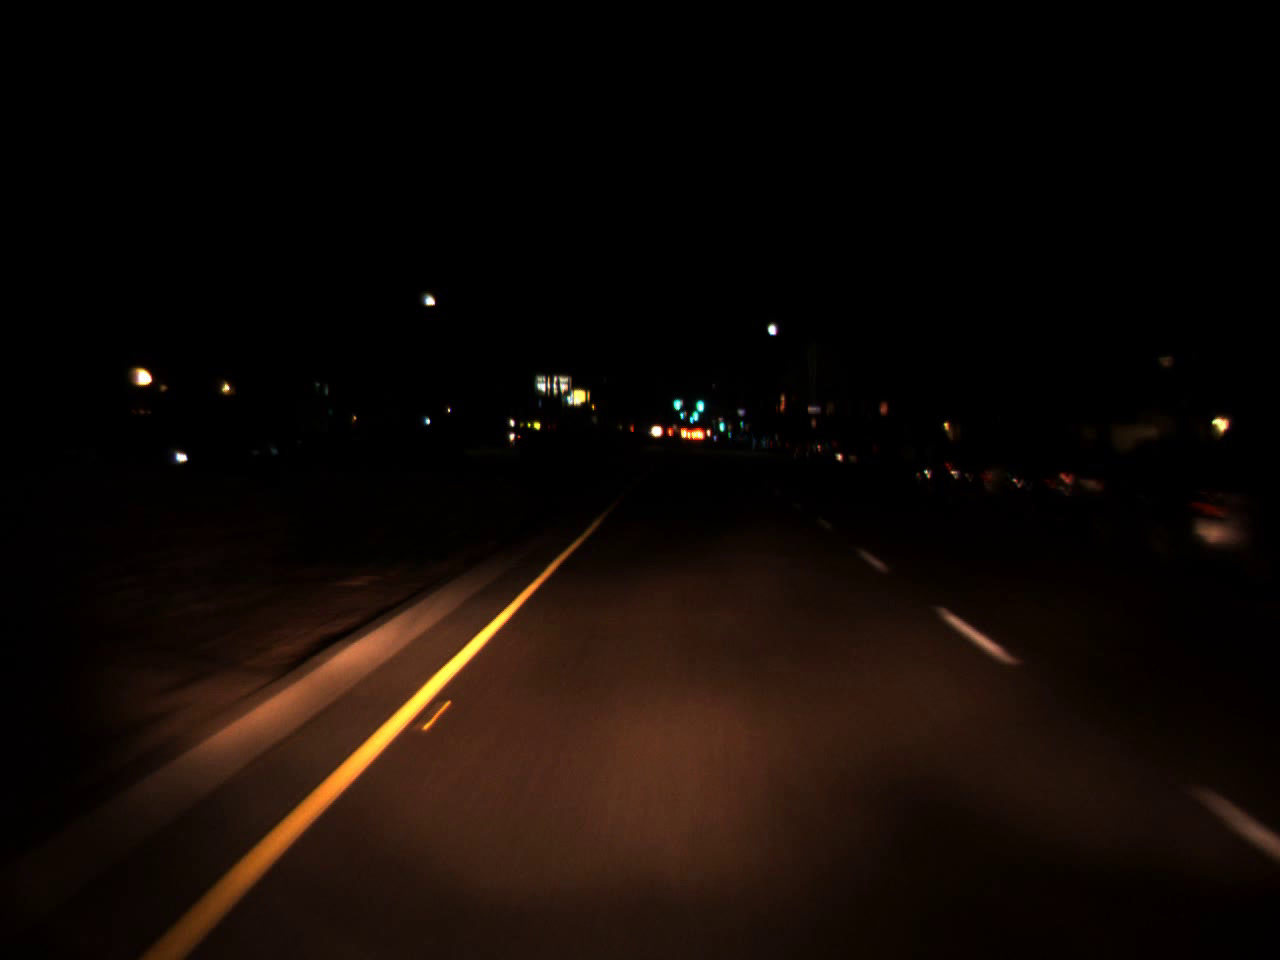go: (686, 395, 700, 428), (692, 391, 703, 412), (671, 390, 681, 411), (718, 411, 725, 435)
